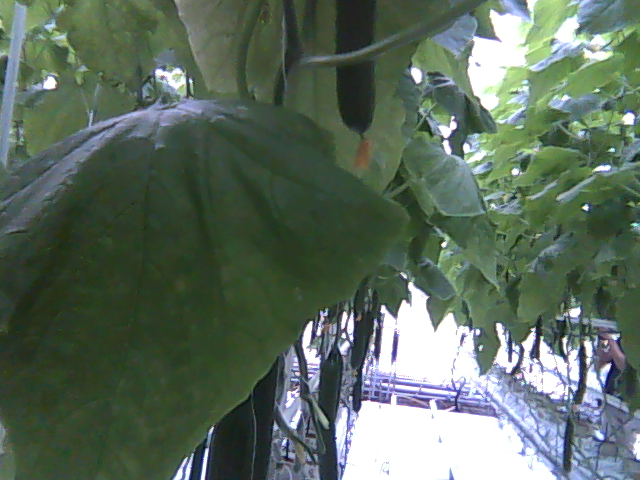concombre: (331, 1, 380, 173)
